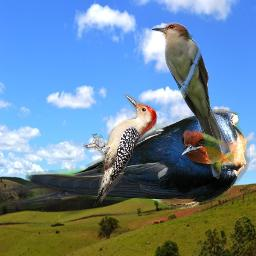Cuckoo: (151, 22, 234, 179)
Swallow: (0, 109, 250, 209)
Woodpecker: (83, 94, 159, 207)
